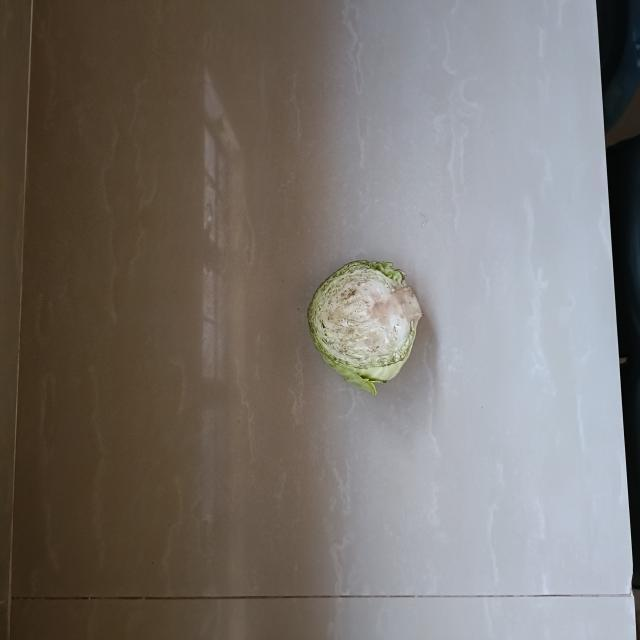cabbage: (309, 257, 422, 386)
